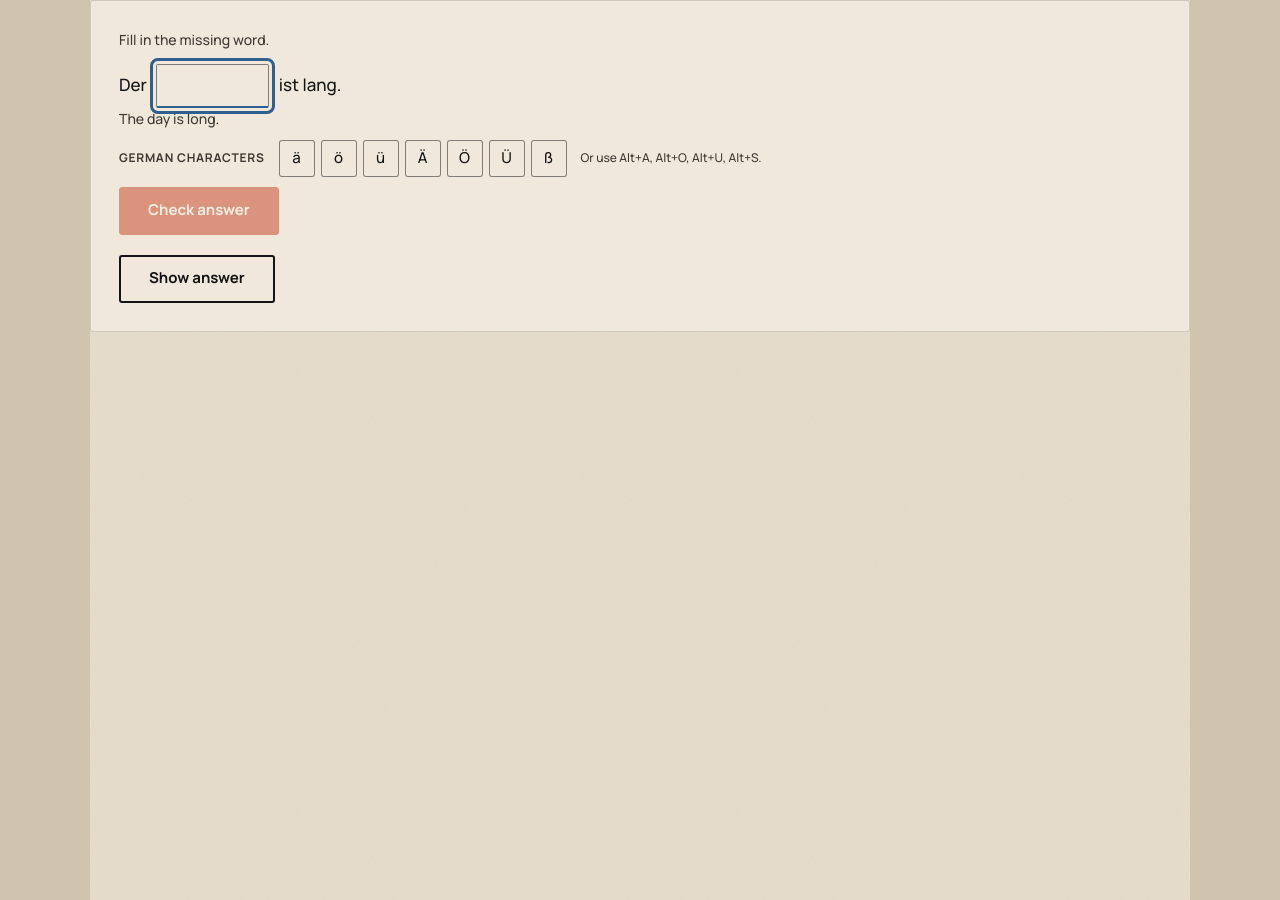
Scenario: ExerciseRunner › shows the full corrected sentence after a sentence-completion answer
In the field named "missing word": (213, 86) [156, 64, 269, 108], type "Tag"
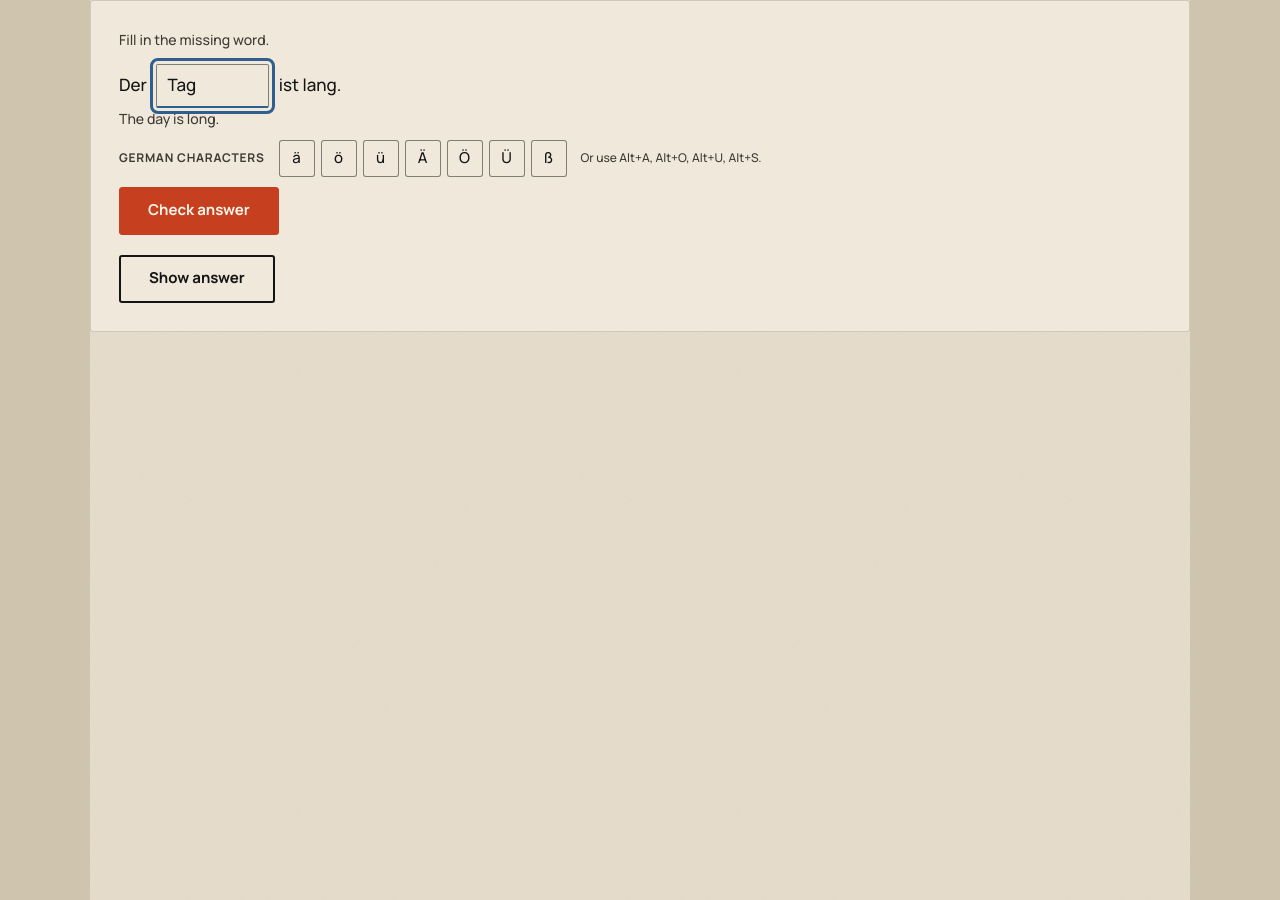
Click the button "Check answer": (199, 211) [119, 187, 279, 235]
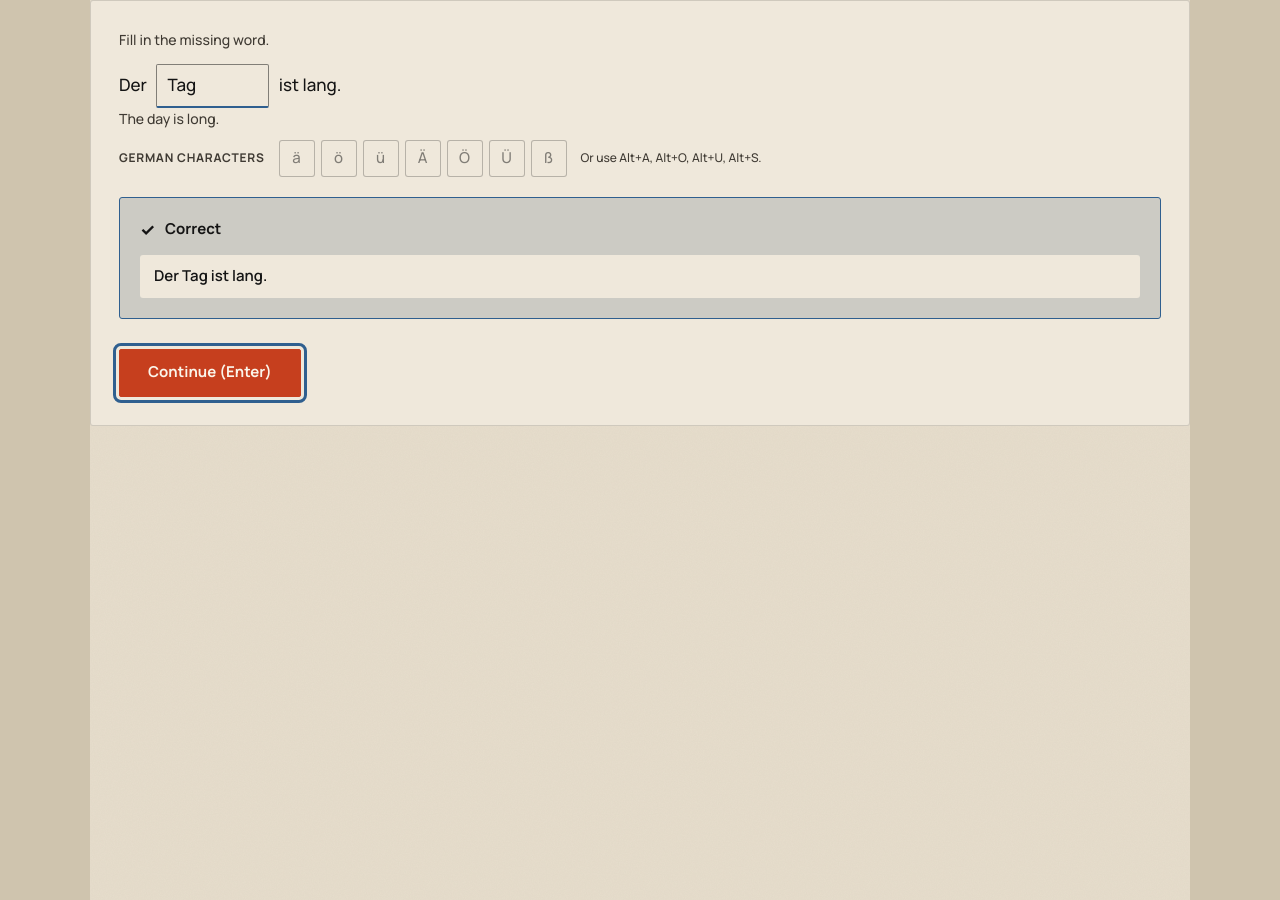
Check: the message shows "Der Tag ist lang.", box [154, 265, 267, 286]
